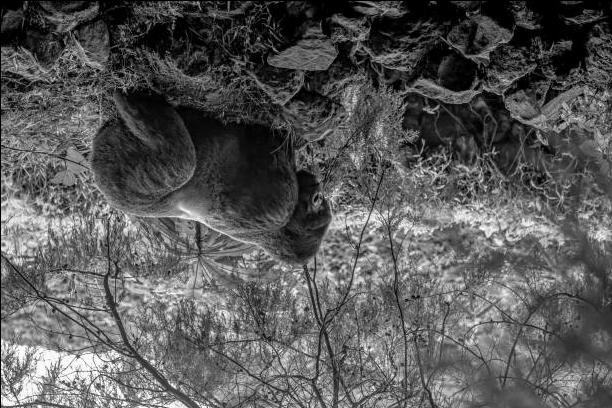goriile_montagne: (72, 78, 341, 314)
